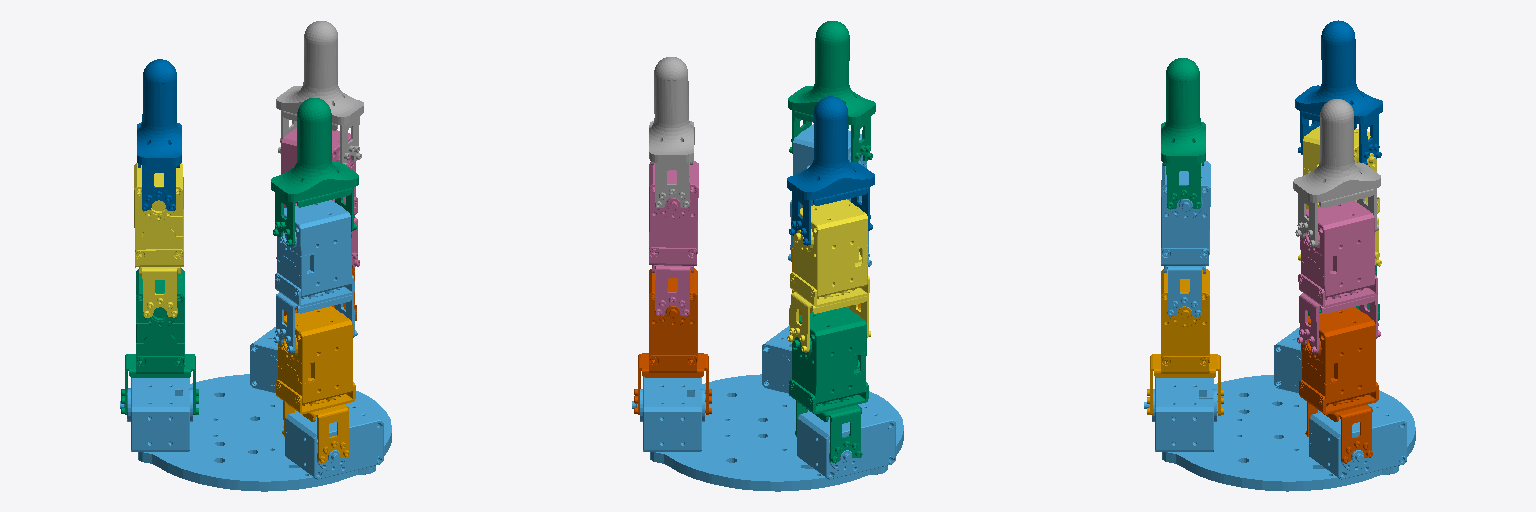
The robot description file, URDF, robot "dclaw_gripper":
<?xml version="1.0" encoding="utf-8"?>
<robot name="dclaw_gripper">
  <link name="base"/>
  <joint name="base_joint" type="fixed">
    <parent link="base"/>
    <child link="base_link"/>
    <origin xyz="0 0 0" rpy="0 -1.57079 0"/>
  </joint>
  <link name="base_link">
    <inertial>
      <origin xyz="0.0061371 0.00092103 0.0001376" rpy="0 0 0"/>
      <mass value="0.23695"/>
      <inertia ixx="0.00032097" ixy="-6.6887E-18" ixz="1.9851E-17" iyy="0.00016917" iyz="-1.3585E-07" izz="0.00016932"/>
    </inertial>
    <visual>
      <origin xyz="0 0 0" rpy="0 0 0"/>
      <geometry>
        <mesh filename="meshes/visual/base_link.stl"/>
      </geometry>
    </visual>
    <collision>   <!-- base_cylinder -->
      <origin xyz="0 0 0" rpy="0 0 0"/>
      <geometry>
        <mesh filename="meshes/collision/base_link_cylinder.stl"/>
      </geometry>
    </collision>
    <collision> <!-- base_motor_1 -->
      <origin xyz="0.013 -0.059 -0.012" rpy="0 0 0"/>
      <geometry>
        <box size="0.026 0.04 0.05"/>
      </geometry>
    </collision>
    <collision> <!-- base_motor_2 -->
      <origin xyz="0.013 0.02 0.058" rpy="1.0472 0 0"/>
      <geometry>
        <box size="0.026 0.04 0.05"/>
      </geometry>
    </collision>
    <collision> <!-- base_motor_3 -->
      <origin xyz="0.013 0.042 -0.045" rpy="-1.0472 0 0"/>
      <geometry>
        <box size="0.026 0.04 0.05"/>
      </geometry>
    </collision>
  </link>
  <link name="link_f1_1">
    <inertial>
      <origin xyz="0.052937980145625 -0.00497139258776 -0.000694027511673134" rpy="0 0 0"/>
      <mass value="0.0500997884944125"/>
      <inertia ixx="8.46910401400073E-06" ixy="-5.59186721204179E-09" ixz="8.65556909015113E-12" iyy="1.16900209784881E-05" iyz="1.71650076915383E-09" izz="1.27968151742208E-05"/>
    </inertial>
    <visual>
      <origin xyz="0 0 0" rpy="0 0 0"/>
      <geometry>
        <mesh filename="meshes/visual/link_1.stl"/>
      </geometry>
    </visual>
    <collision>  <!-- link_finger1_1 -->
      <origin xyz="0.05 -0.005 0" rpy="0 0 0"/>
      <geometry>
        <box size="0.058 0.038 0.03"/>
      </geometry>
    </collision>
    <collision>
      <origin xyz="0.013 -0.005 -0.018" rpy="0 0 0"/>
      <geometry>
        <box size="0.03 0.024 0.01"/>
      </geometry>
    </collision>
    <collision>
      <origin xyz="0.013 -0.005 0.018" rpy="0 0 0"/>
      <geometry>
        <box size="0.03 0.024 0.01"/>
      </geometry>
    </collision>
  </link>
  <joint name="joint_f1_0" type="revolute">
    <origin xyz="0.013836 0.026467 0.054269" rpy="2.618 0 0"/>
    <parent link="base_link"/>
    <child link="link_f1_1"/>
    <axis xyz="0 -0.0015509 -1"/>
    <limit lower="-0.524" upper="1.32" effort="10" velocity="100"/>
  </joint>
  <link name="link_f1_2">
    <inertial>
      <origin xyz="0.0529346131214272 4.20660206008894E-05 -0.000658948595449904" rpy="0 0 0"/>
      <mass value="0.0500997884943922"/>
      <inertia ixx="8.46982892599337E-06" ixy="-7.79200381419549E-10" ixz="6.12478914527945E-08" iyy="1.10964732933152E-05" iyz="3.79402169890053E-09" izz="1.33896379473968E-05"/>
    </inertial>
    <visual>
      <origin xyz="0 0 0" rpy="0 0 0"/>
      <geometry>
        <mesh filename="meshes/visual/link_2.stl"/>
      </geometry>
    </visual>
    <collision>  <!-- link_finger1_2 -->
      <origin xyz="0.05 0 0" rpy="0 0 0"/>
      <geometry>
        <box size="0.058 0.036 0.03"/>
      </geometry>
    </collision>
    <collision>
      <origin xyz="0.013 0.018 0" rpy="0 0 0"/>
      <geometry>
        <box size="0.03 0.01 0.024"/>
      </geometry>
    </collision>
    <collision>
      <origin xyz="0.013 -0.018 0" rpy="0 0 0"/>
      <geometry>
        <box size="0.03 0.01 0.024"/>
      </geometry>
    </collision>
  </link>
  <joint name="joint_f1_1" type="revolute">
    <origin xyz="0.068497840506843 -0.00447059066166425 -0.00069480419720909" rpy="0 0 0"/>
    <parent link="link_f1_1"/>
    <child link="link_f1_2"/>
    <axis xyz="-0.00794039679013064 0.999967271990909 -0.00155082103229942"/>
    <limit lower="-1.57" upper="1.57" effort="10" velocity="100"/>
  </joint>
  <link name="link_f1_3">
    <inertial>
      <origin xyz="0.0442887582746113 0.00035235906135242 0.000434933008497021" rpy="0 0 0"/>
      <mass value="0.0260028968487658"/>
      <inertia ixx="3.47806502125481E-06" ixy="-2.95890268825293E-08" ixz="-5.11685971410778E-08" iyy="7.19387269621039E-06" iyz="1.90796366800334E-09" izz="8.68619204396781E-06"/>
    </inertial>
    <visual>
      <origin xyz="0 0 0" rpy="0 0 0"/>
      <geometry>
        <mesh filename="meshes/visual/link_3.stl"/>
      </geometry>
    </visual>
    <collision>   <!-- link_finger1_3 -->
      <origin xyz="0 0 0" rpy="0 0 0"/>
      <geometry>
        <mesh filename="meshes/collision/finger_tip.stl"/>
      </geometry>
    </collision>
    <collision>
      <origin xyz="0.013 0.018 0" rpy="0 0 0"/>
      <geometry>
        <box size="0.03 0.01 0.024"/>
      </geometry>
    </collision>
    <collision>
      <origin xyz="0.013 -0.018 0" rpy="0 0 0"/>
      <geometry>
        <box size="0.03 0.01 0.024"/>
      </geometry>
    </collision>
  </link>
  <joint name="joint_f1_2" type="revolute">
    <origin xyz="0.0684925346596223 0.000542552150630676 -0.000853424316918899" rpy="0 0 0"/>
    <parent link="link_f1_2"/>
    <child link="link_f1_3"/>
    <axis xyz="0.00794039679012981 -0.999967271990909 0.00155082103230192"/>
    <limit lower="-1.57" upper="1.57" effort="10" velocity="100"/>
  </joint>
  <link name="link_f2_1">
    <inertial>
      <origin xyz="0.0529366186747865 0.0029920957103855 -0.000173411779378921" rpy="0 0 0"/>
      <mass value="0.0500997884947374"/>
      <inertia ixx="8.46930770326436E-06" ixy="-2.62162459895352E-08" ixz="4.06413156611164E-11" iyy="1.16898172897379E-05" iyz="1.71681653411011E-09" izz="1.27968151737415E-05"/>
    </inertial>
    <visual>
      <origin xyz="0 0.008 0" rpy="0 0 0"/>
      <geometry>
        <mesh filename="meshes/visual/link_1.stl"/>
      </geometry>
    </visual>
    <collision>  <!-- link_finger2_1 -->
      <origin xyz="0.05 0.003 0" rpy="0 0 0"/>
      <geometry>
        <box size="0.058 0.038 0.03"/>
      </geometry>
    </collision>
    <collision>
      <origin xyz="0.013 0.003 -0.018" rpy="0 0 0"/>
      <geometry>
        <box size="0.03 0.024 0.01"/>
      </geometry>
    </collision>
    <collision>
      <origin xyz="0.013 0.003 0.018" rpy="0 0 0"/>
      <geometry>
        <box size="0.03 0.024 0.01"/>
      </geometry>
    </collision>
  </link>
  <joint name="joint_f2_0" type="revolute">
    <origin xyz="0.0138355526615453 0.033321641905068 -0.0509719115789127" rpy="-2.61799387799149 0 0"/>
    <parent link="base_link"/>
    <child link="link_f2_1"/>
    <axis xyz="0 -0.00155086992413278 -0.999998797400516"/>
    <limit lower="-1.32" upper="0.524" effort="10" velocity="100"/>
  </joint>
  <link name="link_f2_2">
    <inertial>
      <origin xyz="0.0529373376292636 0.000382054108649318 -3.9604226158757E-05" rpy="0 0 0"/>
      <mass value="0.0500997884947384"/>
      <inertia ixx="8.46918825148626E-06" ixy="-1.76972865703743E-08" ixz="3.65389057121657E-09" iyy="1.10963536600261E-05" iyz="3.59507089481827E-09" izz="1.33903982552316E-05"/>
    </inertial>
    <visual>
      <origin xyz="0 0 0" rpy="0 0 0"/>
      <geometry>
        <mesh filename="meshes/visual/link_2.stl"/>
      </geometry>
    </visual>
    <collision>  <!-- link_finger2_2 -->
      <origin xyz="0.05 0 0" rpy="0 0 0"/>
      <geometry>
        <box size="0.058 0.036 0.03"/>
      </geometry>
    </collision>
    <collision>
      <origin xyz="0.013 0.018 0" rpy="0 0 0"/>
      <geometry>
        <box size="0.03 0.01 0.024"/>
      </geometry>
    </collision>
    <collision>
      <origin xyz="0.013 -0.018 0" rpy="0 0 0"/>
      <geometry>
        <box size="0.03 0.01 0.024"/>
      </geometry>
    </collision>
  </link>
  <joint name="joint_f2_1" type="revolute">
    <origin xyz="0.0684929530993347 0.00359252558891102 -0.000174342974942968" rpy="0 0 0"/>
    <parent link="link_f2_1"/>
    <child link="link_f2_2"/>
    <axis xyz="-0.014343581886071 0.999895923061994 -0.00155071037926452"/>
    <limit lower="-1.57" upper="1.57" effort="10" velocity="100"/>
  </joint>
  <link name="link_f2_3">
    <inertial>
      <origin xyz="0.0442877261541773 0.000635363411305337 3.24374268249883E-05" rpy="0 0 0"/>
      <mass value="0.0260028967625064"/>
      <inertia ixx="3.47809482432761E-06" ixy="-5.3314327919684E-08" ixz="-3.84829965834772E-09" iyy="7.19334337797395E-06" iyz="2.25982162121694E-09" izz="8.68669162883216E-06"/>
    </inertial>
    <visual>
      <origin xyz="0 0 0" rpy="0 0 0"/>
      <geometry>
        <mesh filename="meshes/visual/link_3.stl"/>
      </geometry>
    </visual>
    <collision>   <!-- link_finger2_3 -->
      <origin xyz="0 0 0" rpy="0 0 0"/>
      <geometry>
        <mesh filename="meshes/collision/finger_tip.stl"/>
      </geometry>
    </collision>
    <collision>
      <origin xyz="0.013 0.018 0" rpy="0 0 0"/>
      <geometry>
        <box size="0.03 0.01 0.024"/>
      </geometry>
    </collision>
    <collision>
      <origin xyz="0.013 -0.018 0" rpy="0 0 0"/>
      <geometry>
        <box size="0.03 0.01 0.024"/>
      </geometry>
    </collision>
  </link>
  <joint name="joint_f2_2" type="revolute">
    <origin xyz="0.0684929345007509 0.000982455622303688 -5.20041001613319E-05" rpy="0 0 0"/>
    <parent link="link_f2_2"/>
    <child link="link_f2_3"/>
    <axis xyz="0.0143435818860688 -0.999895923061994 0.0015507103792663"/>
    <limit lower="-1.57" upper="1.57" effort="10" velocity="100"/>
  </joint>
  <link name="link_f3_1">
    <inertial>
      <origin xyz="0.052937756130489 0.000210782387668487 -0.000208618910146202" rpy="0 0 0"/>
      <mass value="0.0500997884940019"/>
      <inertia ixx="8.46914437459628E-06" ixy="-1.26990243942859E-08" ixz="1.96778519263691E-11" iyy="1.16899806178808E-05" iyz="1.71656331383852E-09" izz="1.27968151741214E-05"/>
    </inertial>
    <visual>
      <origin xyz="0 0.005 0" rpy="0 0 0"/>
      <geometry>
        <mesh filename="meshes/visual/link_1.stl"/>
      </geometry>
    </visual>
    <collision>  <!-- link_finger3_1 -->
      <origin xyz="0.05 0 0" rpy="0 0 0"/>
      <geometry>
        <box size="0.058 0.038 0.03"/>
      </geometry>
    </collision>
    <collision>
      <origin xyz="0.013 0 -0.018" rpy="0 0 0"/>
      <geometry>
        <box size="0.03 0.024 0.01"/>
      </geometry>
    </collision>
    <collision>
      <origin xyz="0.013 0 0.018" rpy="0 0 0"/>
      <geometry>
        <box size="0.03 0.024 0.01"/>
      </geometry>
    </collision>
  </link>
  <joint name="joint_f3_0" type="revolute">
    <origin xyz="0.0138355526615456 -0.05963321136 0.00022432666062458" rpy="1.5707963267949 0 0"/>
    <parent link="base_link"/>
    <child link="link_f3_1"/>
    <axis xyz="0 -0.00155086992413289 -0.999998797400516"/>
    <limit lower="-1.32" upper="0.524" effort="10" velocity="100"/>
  </joint>
  <link name="link_f3_2">
    <inertial>
      <origin xyz="0.0529381098100723 0.000160241314829807 0.000200253757474567" rpy="0 0 0"/>
      <mass value="0.0500997884940274"/>
      <inertia ixx="8.46915385113344E-06" ixy="-6.70459090239306E-09" ixz="-1.86284718319264E-08" iyy="1.10964555162285E-05" iyz="3.44406945089208E-09" izz="1.33903307992363E-05"/>
    </inertial>
    <visual>
      <origin xyz="0 0 0" rpy="0 0 0"/>
      <geometry>
        <mesh filename="meshes/visual/link_2.stl"/>
      </geometry>
    </visual>
    <collision>  <!-- link_finger3_2 -->
      <origin xyz="0.05 0 0" rpy="0 0 0"/>
      <geometry>
        <box size="0.058 0.036 0.03"/>
      </geometry>
    </collision>
    <collision>
      <origin xyz="0.013 0.018 0" rpy="0 0 0"/>
      <geometry>
        <box size="0.03 0.01 0.024"/>
      </geometry>
    </collision>
    <collision>
      <origin xyz="0.013 -0.018 0" rpy="0 0 0"/>
      <geometry>
        <box size="0.03 0.01 0.024"/>
      </geometry>
    </collision>
  </link>
  <joint name="joint_f3_1" type="revolute">
    <origin xyz="0.0684964735450448 0.000745917286560926 -0.000209448841640203" rpy="0 0 0"/>
    <parent link="link_f3_1"/>
    <child link="link_f3_2"/>
    <axis xyz="-0.0101468979551261 0.99994731636822 -0.0015507900836953"/>
    <limit lower="-1.57" upper="1.57" effort="10" velocity="100"/>
  </joint>
  <link name="link_f3_3">
    <inertial>
      <origin xyz="0.0442682768834517 0.000447052534982395 -0.00138825632794681" rpy="0 0 0"/>
      <mass value="0.0260028964716332"/>
      <inertia ixx="3.48282165541386E-06" ixy="-3.7405200668484E-08" ixz="1.6316576122808E-07" iyy="7.19373134234755E-06" iyz="3.96287130820337E-09" izz="8.68157655036292E-06"/>
    </inertial>
    <visual>
      <origin xyz="0 0 0" rpy="0 0 0"/>
      <geometry>
        <mesh filename="meshes/visual/link_3.stl"/>
      </geometry>
    </visual>
    <collision>   <!-- link_finger3_3 -->
      <origin xyz="0 0 0" rpy="0 0 0"/>
      <geometry>
        <mesh filename="meshes/collision/finger_tip.stl"/>
      </geometry>
    </collision>
    <collision>
      <origin xyz="0.013 0.018 0" rpy="0 0 0"/>
      <geometry>
        <box size="0.03 0.01 0.024"/>
      </geometry>
    </collision>
    <collision>
      <origin xyz="0.013 -0.018 0" rpy="0 0 0"/>
      <geometry>
        <box size="0.03 0.01 0.024"/>
      </geometry>
    </collision>
  </link>
  <joint name="joint_f3_2" type="revolute">
    <origin xyz="0.068496 0.00069546 0.00025837" rpy="0 0 0"/>
    <parent link="link_f3_2"/>
    <child link="link_f3_3"/>
    <axis xyz="-0.010147 0.99995 -0.0015508"/>
    <limit lower="-1.57" upper="1.57" effort="10" velocity="100"/>
  </joint>

  <!--  virtual auxiliary link-->
  <link name="link_f1_head"/>
  <link name="link_f2_head"/>
  <link name="link_f3_head"/>
  <joint name="joint_f1_head" type="fixed">
    <parent link="link_f1_3"/>
    <child link="link_f1_head"/>
    <origin rpy="0 0 0" xyz="0.084 0 0"/>
  </joint>
  <joint name="joint_f2_head" type="fixed">
    <parent link="link_f2_3"/>
    <child link="link_f2_head"/>
    <origin rpy="0 0 0" xyz="0.084 0 0"/>
  </joint>
  <joint name="joint_f3_head" type="fixed">
    <parent link="link_f3_3"/>
    <child link="link_f3_head"/>
    <origin rpy="0 0 0" xyz="0.084 0 0"/>
  </joint>
</robot>

--- Facts derived from the render (not from the file) ---
The picture shows the robot from 3 angles, left to right: view 1: azimuth 30°, elevation 25°; view 2: azimuth 150°, elevation 25°; view 3: azimuth 270°, elevation 25°; orthographic projection.
Robot: dclaw_gripper — 14 links, 13 joints (9 revolute, 4 fixed); root link base; default pose: every joint at zero.
Links seen in each view (by area): view 1: base_link, link_f3_1, link_f3_2, link_f3_3, link_f1_2, link_f1_3, link_f2_3, link_f1_1, link_f2_2; view 2: base_link, link_f1_1, link_f1_2, link_f1_3, link_f2_2, link_f2_3, link_f3_3, link_f2_1, link_f3_2; view 3: base_link, link_f2_1, link_f2_2, link_f2_3, link_f3_2, link_f3_3, link_f1_3, link_f3_1, link_f1_2.
Link boxes in pixels (x1,y1,x2,y2): base_link: (120, 327, 391, 491); link_f3_1: (276, 306, 355, 462); link_f3_2: (273, 200, 357, 352); link_f3_3: (271, 98, 358, 246); link_f1_2: (134, 163, 183, 317); link_f1_3: (137, 59, 181, 210); link_f2_3: (276, 21, 363, 166); link_f1_1: (121, 268, 198, 414); link_f2_2: (276, 128, 359, 267); base_link: (632, 325, 903, 491); link_f1_1: (789, 307, 868, 463); link_f1_2: (787, 199, 870, 352); link_f1_3: (787, 96, 874, 245); link_f2_2: (649, 161, 698, 316); link_f2_3: (649, 57, 694, 208); link_f3_3: (788, 21, 875, 162); link_f2_1: (634, 268, 711, 414); link_f3_2: (788, 124, 871, 266); base_link: (1144, 327, 1415, 491); link_f2_1: (1299, 307, 1378, 463); link_f2_2: (1297, 201, 1380, 353); link_f2_3: (1293, 99, 1380, 246); link_f3_2: (1161, 161, 1210, 316); link_f3_3: (1161, 58, 1205, 208); link_f1_3: (1295, 20, 1382, 164); link_f3_1: (1147, 269, 1223, 415); link_f1_2: (1298, 126, 1381, 266).
Size in the robot's own frame: 0.1607 by 0.1575 by 0.2437 metres.
Meshes: 4 distinct files referenced, 10 mesh visuals loaded (4 binary STL).
